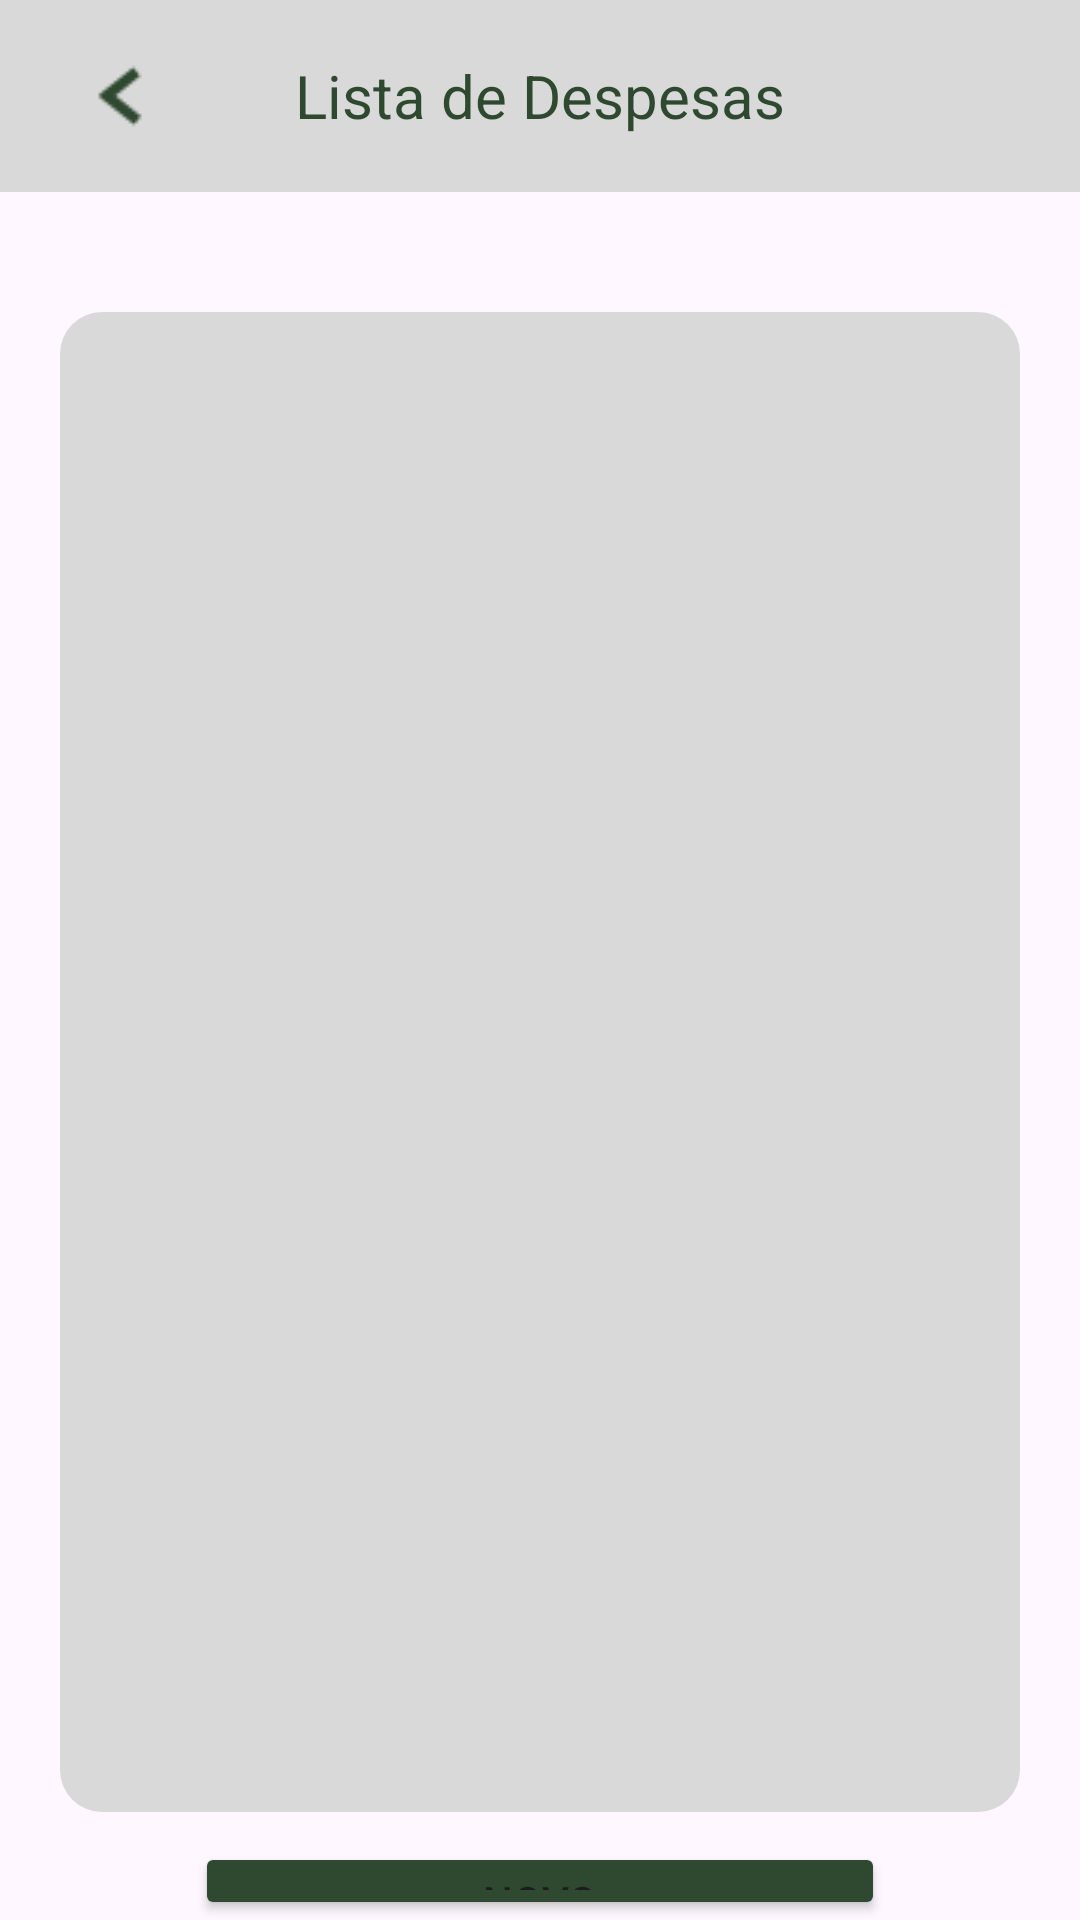

Where to tap for icons on this 1080 × 1920 app screen, as [x,y]:
Voltar: [120,96]
